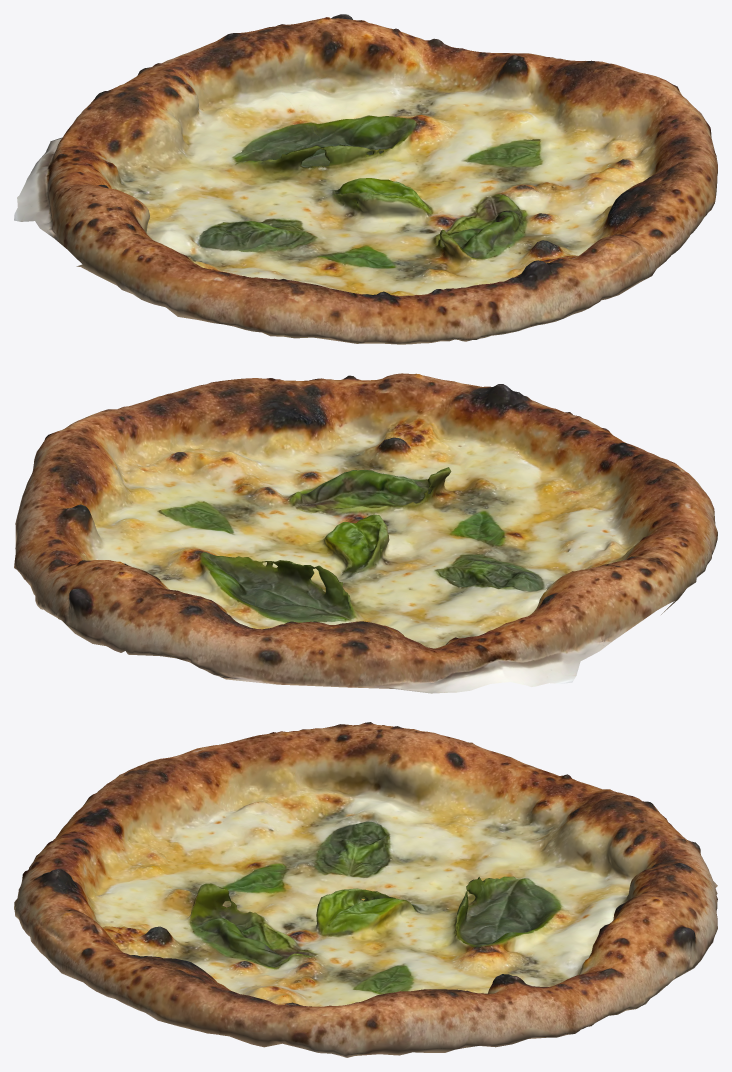
File: dortpeynirli.glb
The picture shows the model from 3 angles, top to bottom: view 1: azimuth 30°, elevation 25°; view 2: azimuth 150°, elevation 25°; view 3: azimuth 270°, elevation 25°; orthographic projection. The views are drawn at different scales.
Bounding box in the file's own units: 0.9271 × 0.107 × 0.9014.
Materials: 1 (1 with a texture image).
